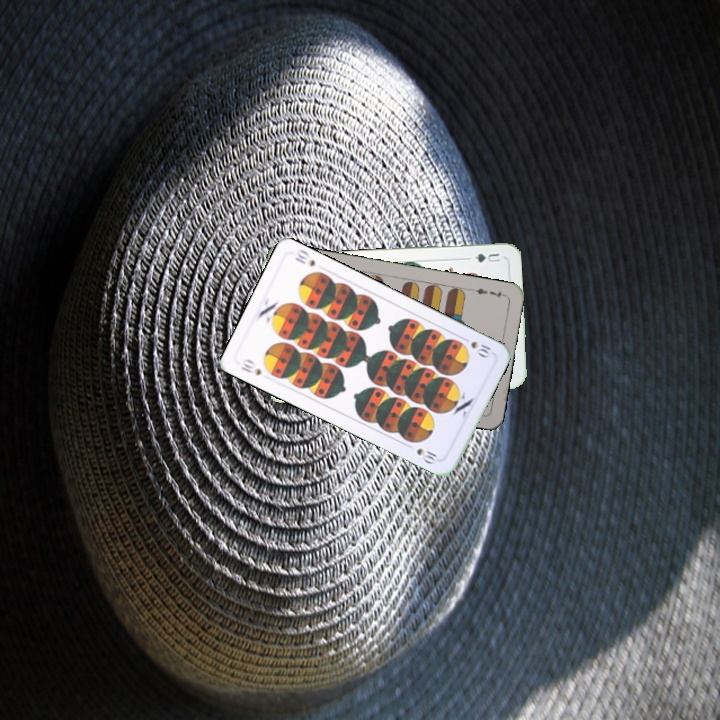E7: (468, 284, 508, 301)
GU: (471, 249, 502, 265)
S10: (458, 333, 494, 361), (237, 355, 264, 378)
